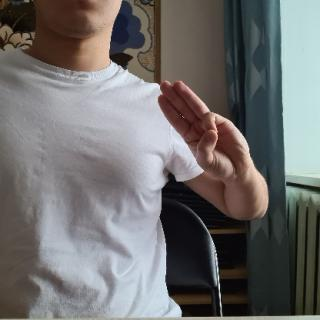THA: (151, 76, 260, 186)
